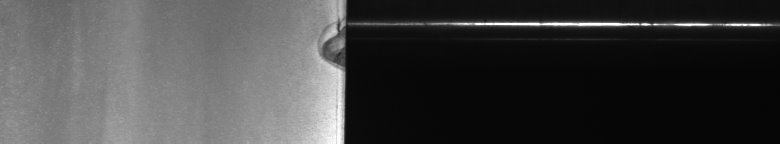hb: (312, 16, 332, 72)
